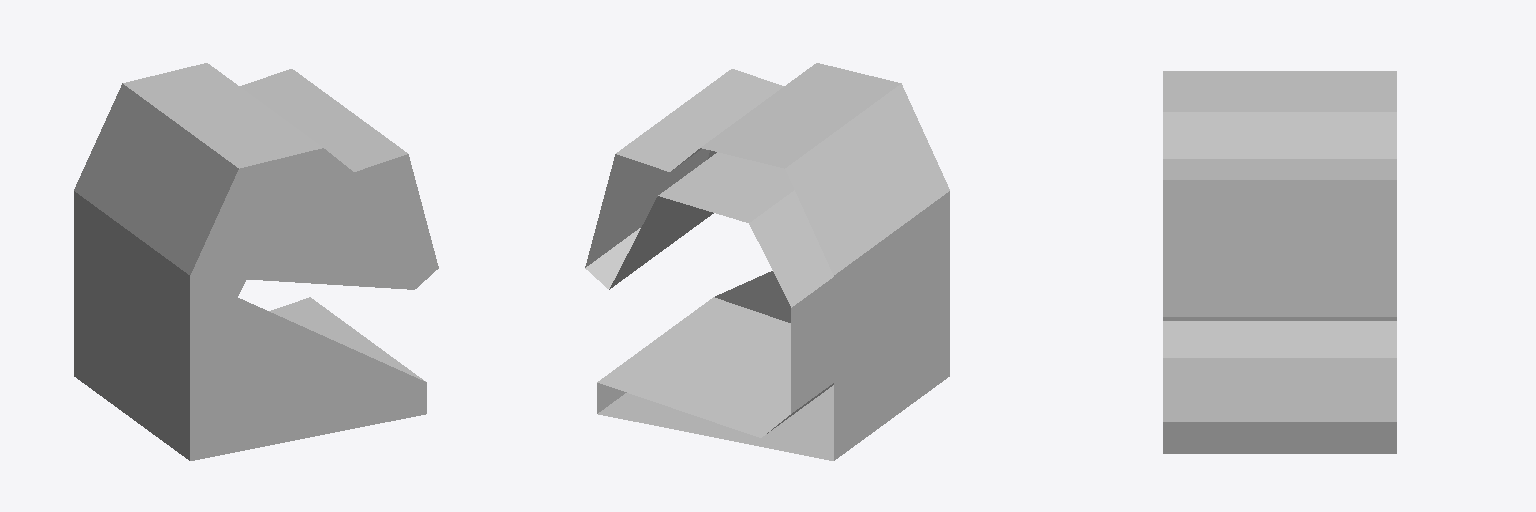
The model's file is building-16.obj.
3 renders of one model, left to right at view 1: azimuth 30°, elevation 25°; view 2: azimuth 150°, elevation 25°; view 3: azimuth 270°, elevation 25°, orthographic.
Bounding box in the file's own units: 12.28 × 13.75 × 9.97.